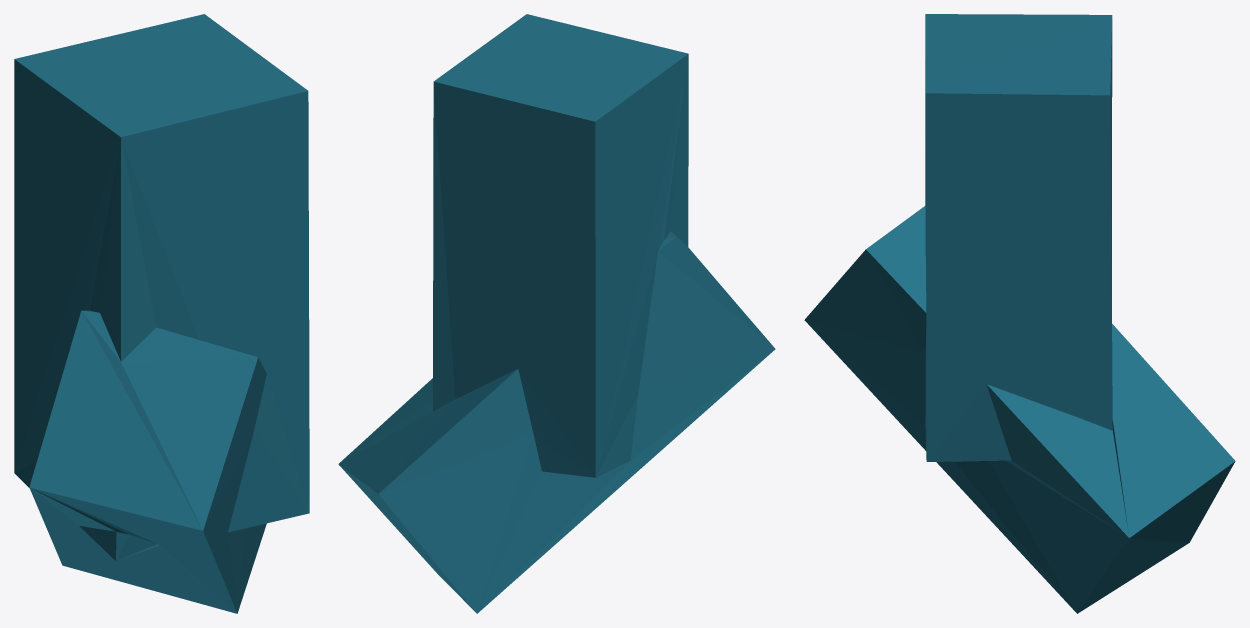
3 views of the same model, side by side, from view 1: azimuth 30°, elevation 25°; view 2: azimuth 150°, elevation 25°; view 3: azimuth 270°, elevation 25° (orthographic). The views are drawn at different scales.
Parts seen in each view (by area): view 1: 903_Cube.3646; view 2: 903_Cube.3646; view 3: 903_Cube.3646.
Boxes of the visible parts, left/top/right/bottom form: 903_Cube.3646: left=14, top=14, right=309, bottom=613; 903_Cube.3646: left=338, top=14, right=775, bottom=613; 903_Cube.3646: left=804, top=14, right=1235, bottom=613.
Size of the model in its own units: 11.5 by 16.82 by 12.8.
